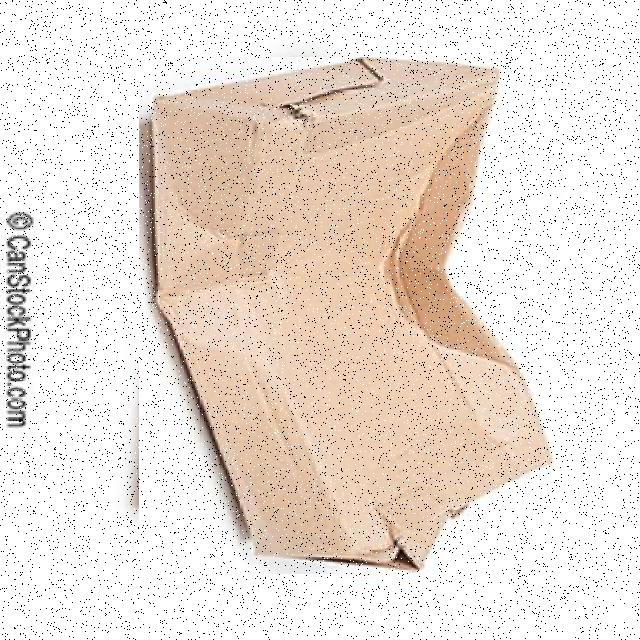defect: (138, 57, 558, 574)
